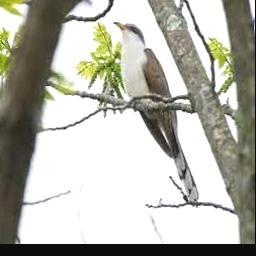Cuckoo: (111, 21, 198, 202)
